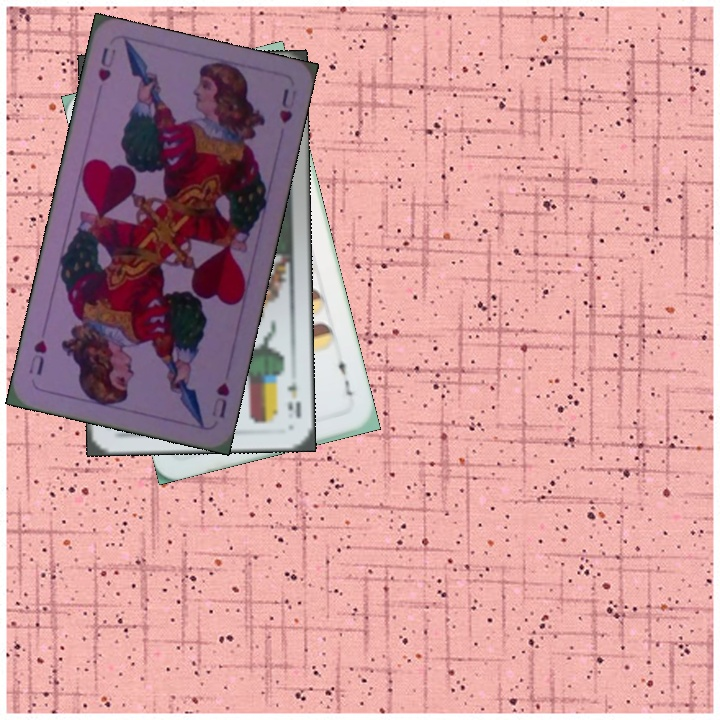E7: (334, 351, 357, 399)
EK: (282, 366, 304, 420)
HU: (207, 378, 232, 421), (94, 43, 119, 84)
